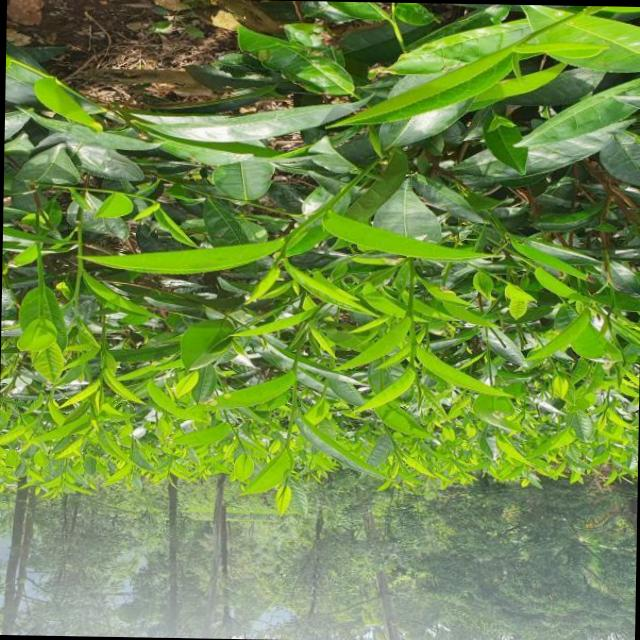Stem: (409, 338, 417, 349), (72, 293, 78, 300), (279, 249, 283, 255)
